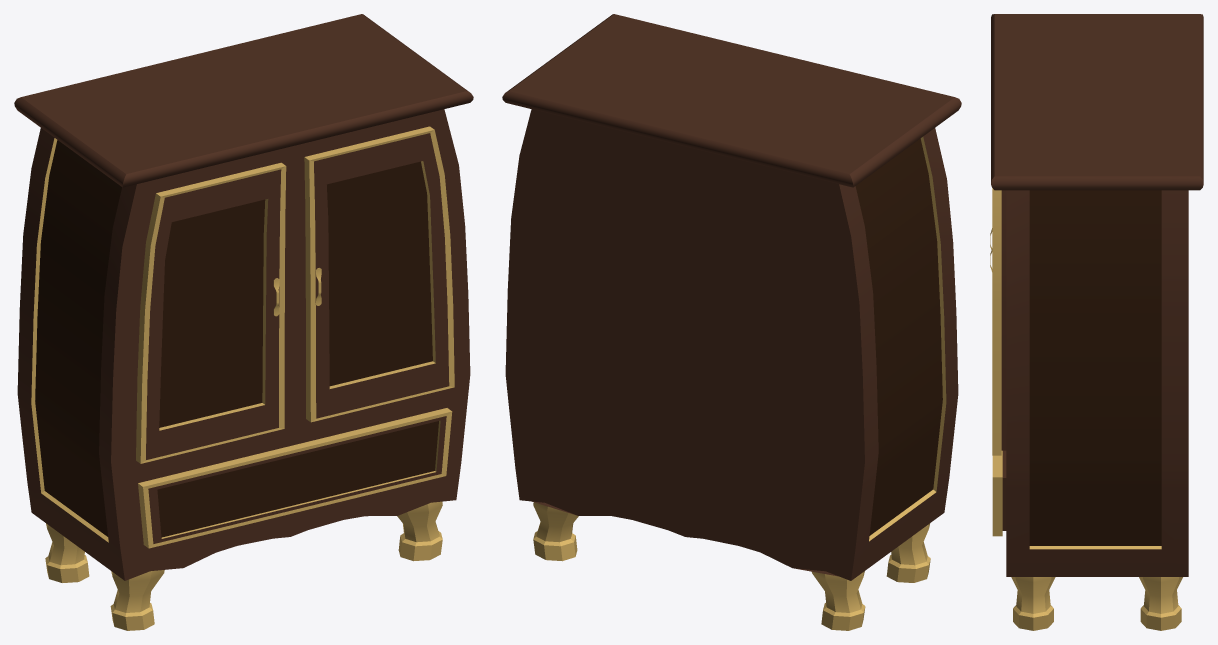
Rendered from MiscLargeCabinetUV.fbx.
The picture shows the model from 3 angles, left to right: view 1: azimuth 30°, elevation 25°; view 2: azimuth 150°, elevation 25°; view 3: azimuth 270°, elevation 25°; orthographic projection. The views are drawn at different scales.
Parts seen in each view (by area): view 1: polySurface46; view 2: polySurface46; view 3: polySurface46.
Boxes of the visible parts, x1=… form: polySurface46: x1=14, y1=14, x2=473, y2=630; polySurface46: x1=502, y1=14, x2=961, y2=630; polySurface46: x1=990, y1=14, x2=1203, y2=630.
Bounding box in the file's own units: 164 × 205 × 86.41.
